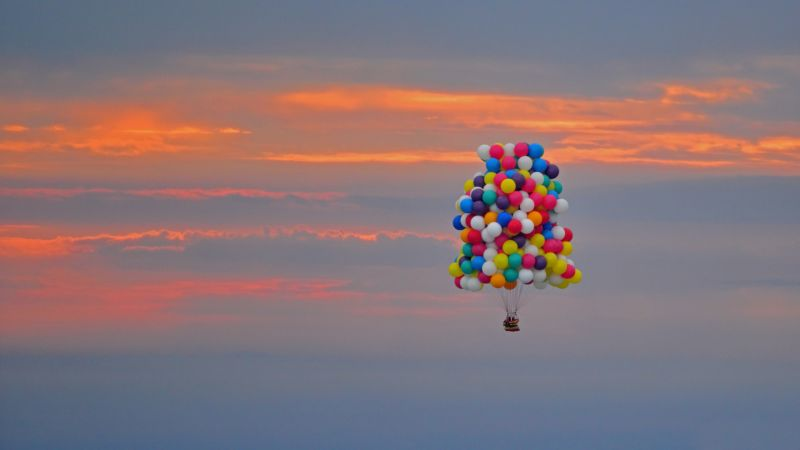Balloon: (502, 240, 519, 255), (529, 143, 545, 158), (554, 198, 569, 214), (552, 259, 567, 275), (530, 233, 545, 249), (518, 268, 533, 284), (517, 155, 532, 170), (507, 219, 522, 234), (482, 261, 497, 276), (500, 178, 516, 192), (533, 157, 547, 173), (532, 268, 546, 284), (482, 190, 496, 205), (543, 195, 557, 210), (522, 178, 536, 193), (471, 215, 485, 230), (520, 219, 534, 234), (551, 225, 565, 240), (483, 247, 497, 262), (460, 259, 474, 274), (490, 273, 504, 288), (520, 198, 534, 212), (501, 156, 516, 169), (460, 198, 473, 213), (522, 253, 535, 268), (509, 253, 522, 268), (495, 254, 508, 269), (486, 223, 501, 236), (478, 144, 490, 160), (490, 145, 504, 158), (515, 142, 529, 155), (473, 201, 486, 215), (534, 255, 547, 269), (486, 158, 499, 171), (484, 211, 497, 224), (498, 212, 511, 225), (468, 230, 481, 243), (504, 143, 516, 156), (509, 192, 521, 205)
